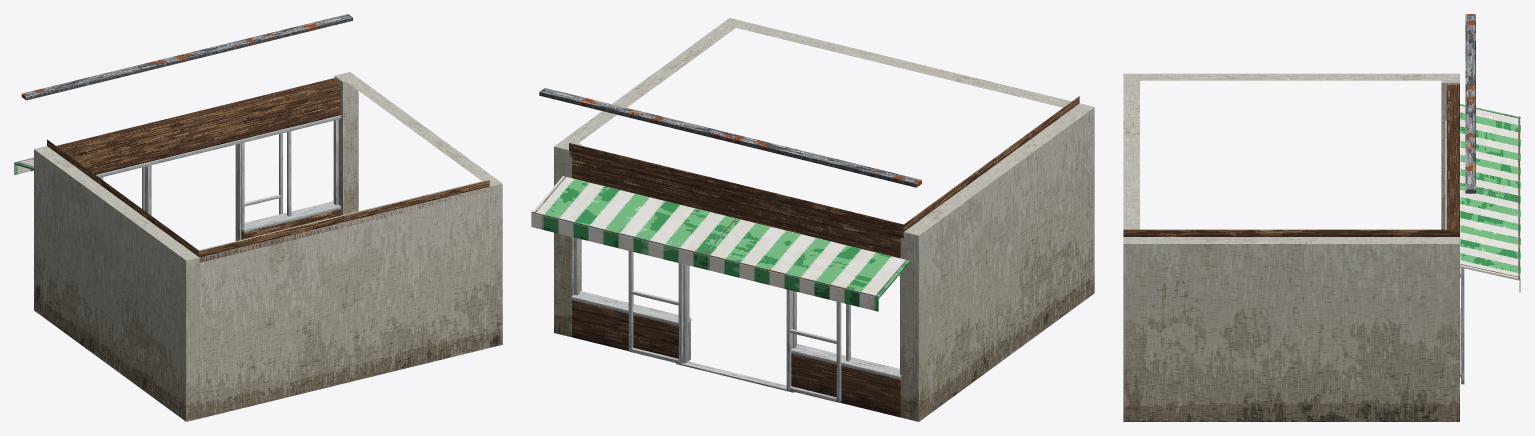
The model's file is mikawaya_shell.glb.
3 views of the same model, side by side, from view 1: azimuth 30°, elevation 25°; view 2: azimuth 150°, elevation 25°; view 3: azimuth 270°, elevation 25° (orthographic). The views are drawn at different scales.
Visible parts, largest first — view 1: mikawaya_shell; view 2: mikawaya_shell; view 3: mikawaya_shell.
Part boxes in pixels (x1,y1,x2,y2): mikawaya_shell: (14, 14, 502, 421); mikawaya_shell: (531, 18, 1094, 421); mikawaya_shell: (1123, 14, 1520, 421).
Size of the model in its own units: 6.25 by 3.89 by 5.96.
Materials: 1 (1 with a texture image).
